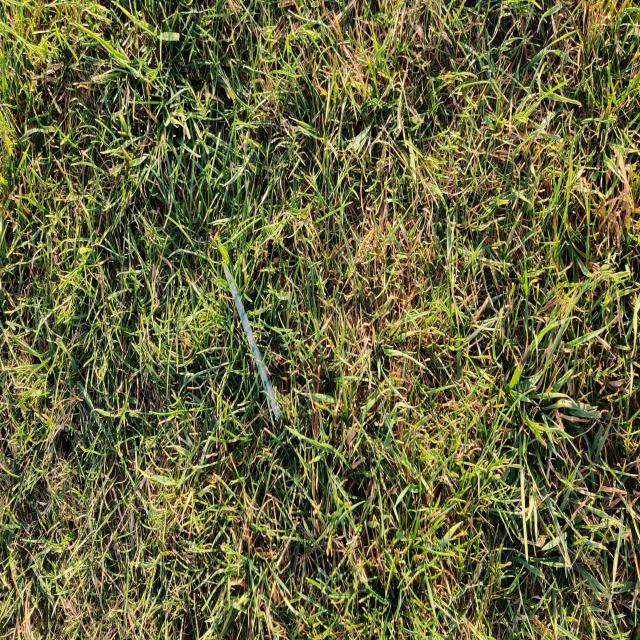litter: (220, 254, 282, 424)
